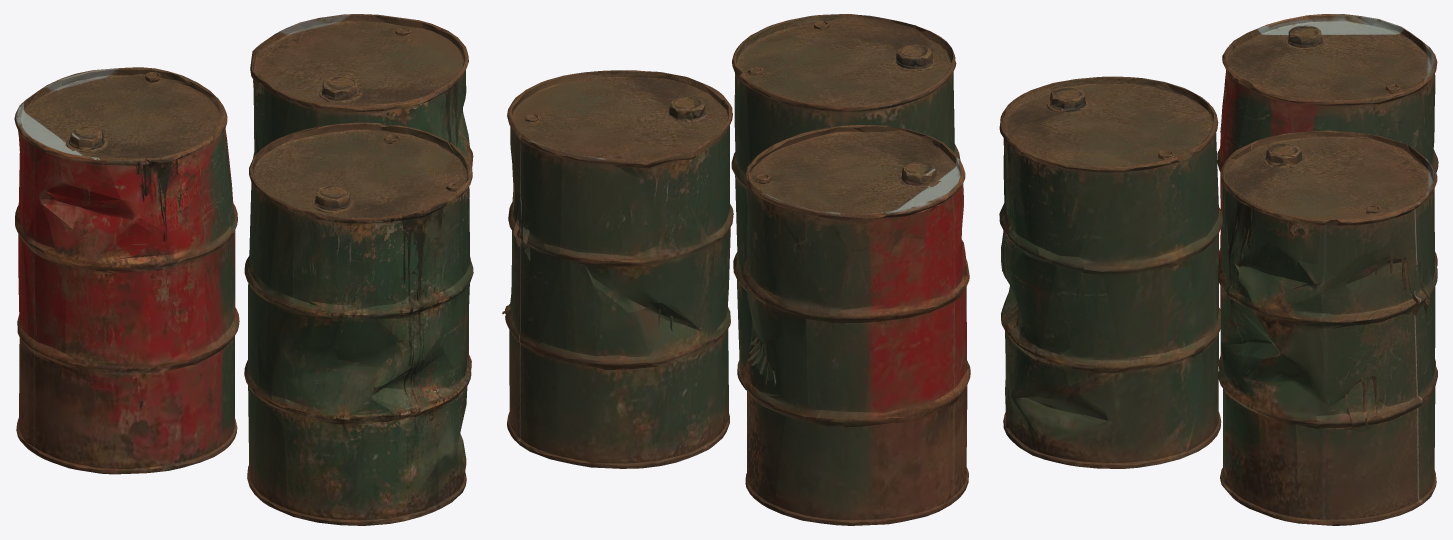
File: drums.glb
3 renders of one model, left to right at view 1: azimuth 30°, elevation 25°; view 2: azimuth 150°, elevation 25°; view 3: azimuth 270°, elevation 25°, orthographic.
Visible parts, largest first — view 1: Mesh_0; view 2: Mesh_0; view 3: Mesh_0.
Boxes of the visible parts, box(x1,y1,x2,y2) form: Mesh_0: box(14, 14, 473, 525); Mesh_0: box(502, 14, 970, 525); Mesh_0: box(999, 14, 1438, 525).
Bounding box in the file's own units: 1.9 × 1.33 × 1.7.
1 material, 1 textured.
